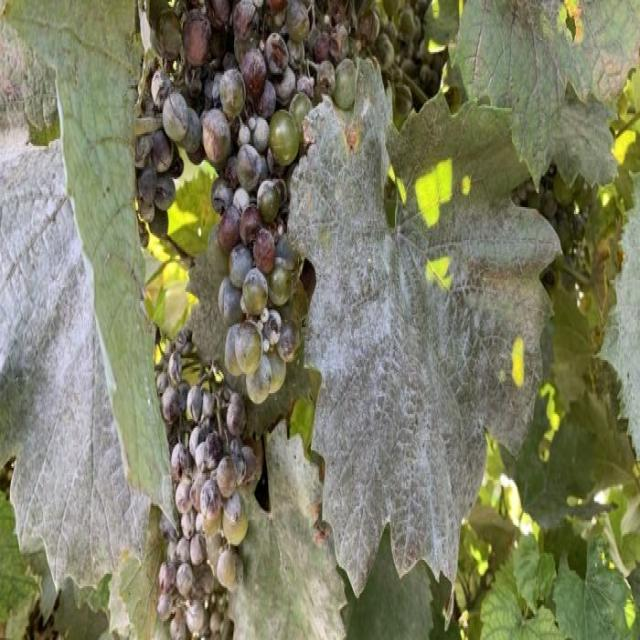Leaf_Mold: (286, 80, 545, 595), (0, 43, 107, 624), (128, 348, 251, 576)
